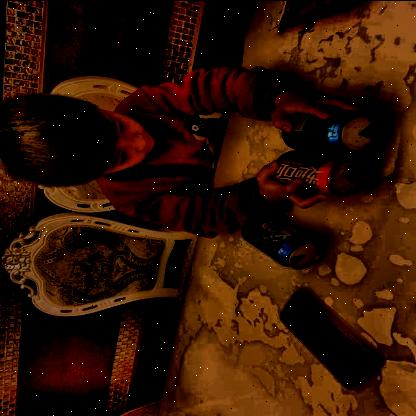Can: (264, 145, 371, 199), (278, 104, 388, 154), (239, 208, 323, 272)
